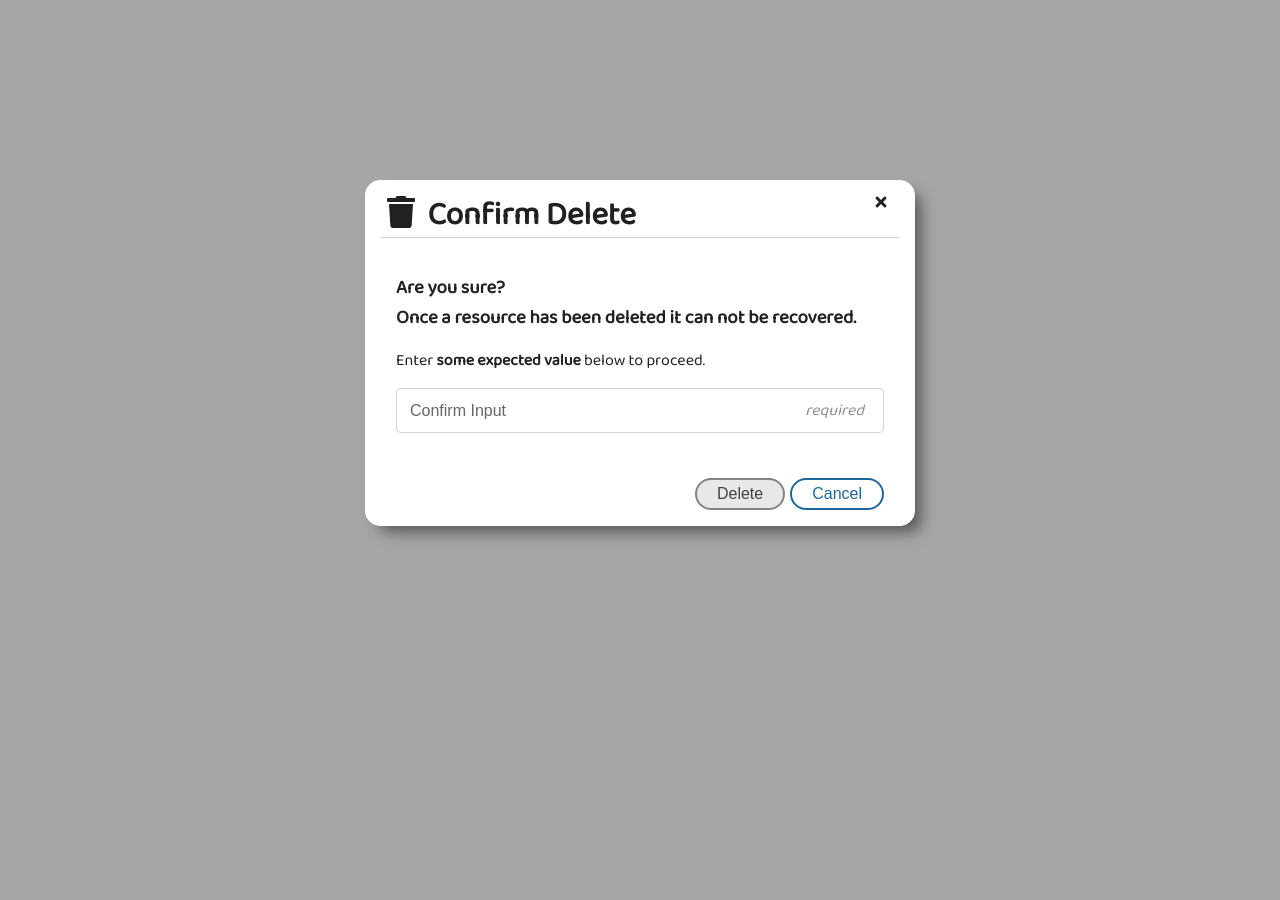
Scenario: <DeleteModal /> › should enable the delete button if input matches expectedInput
This screenshot has width=1280, height=900.
Expected: the button with test id "unitTestDeleteModal.actions.primaryButton" is disabled, [695,478,785,510]
Type "some expected value" into the field with test id "confirmStringInput.input" at (640, 410), box [396,388,884,433]
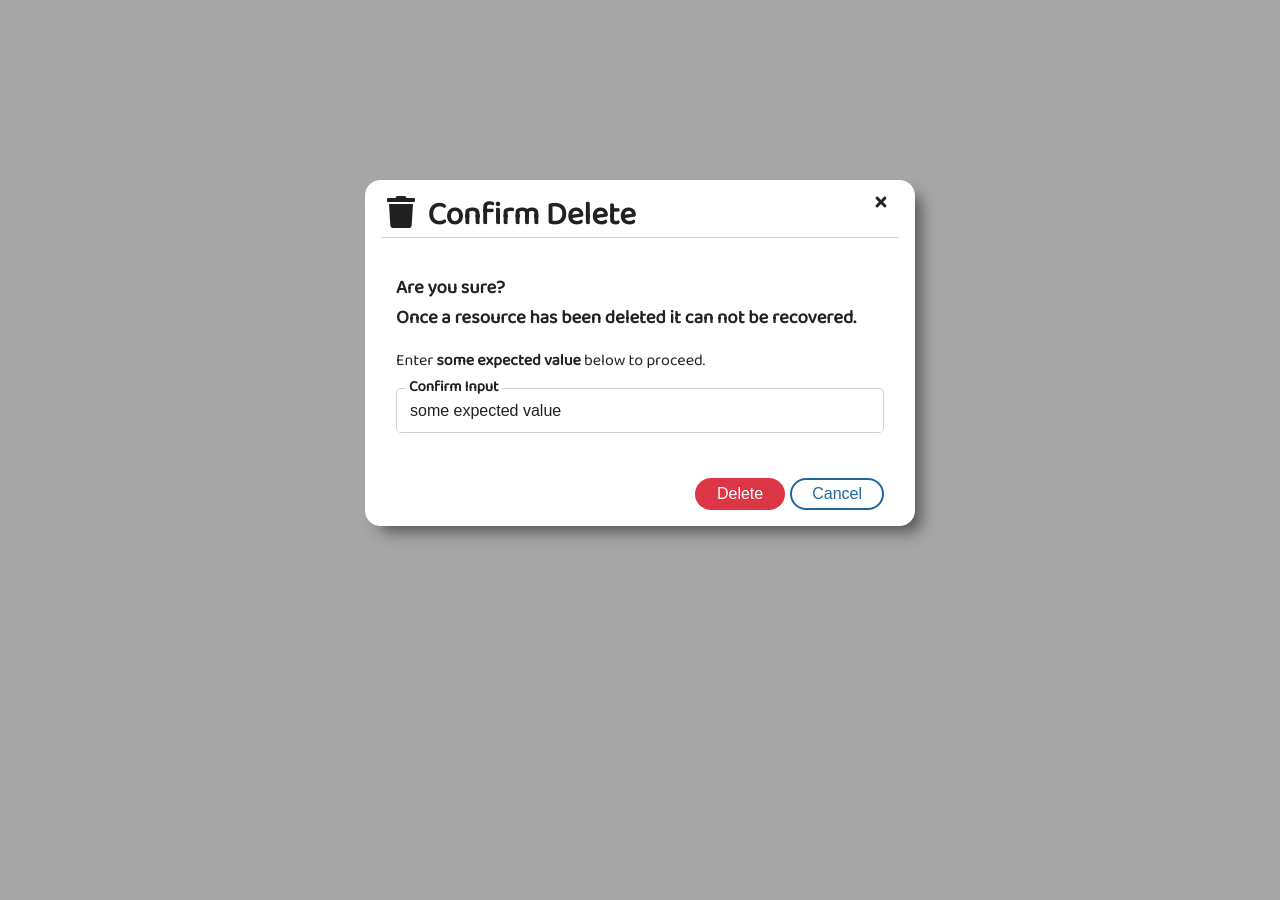
Expected: the button with test id "unitTestDeleteModal.actions.primaryButton" is enabled, [695,478,785,510]
